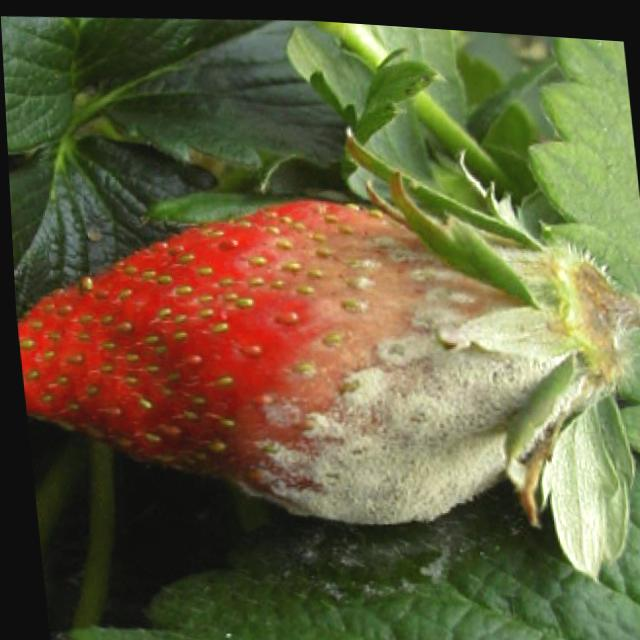Gray Mold: (217, 197, 578, 523)
